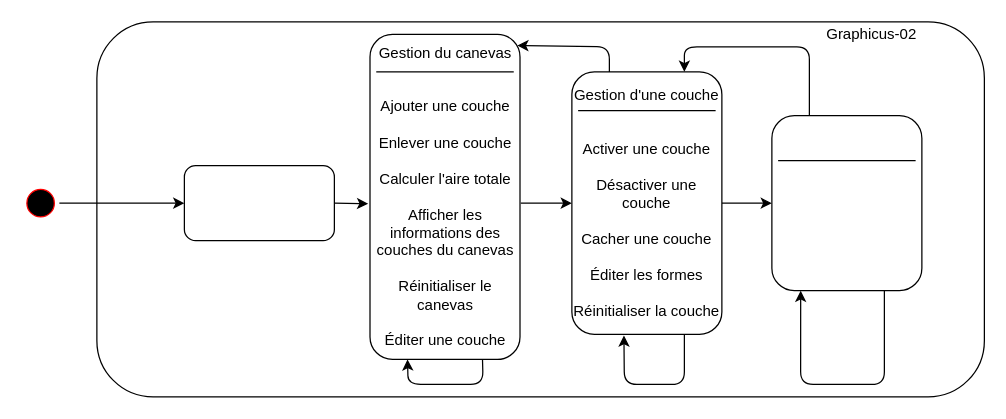
Image size: 1006x419. Some labels were removed from this diagram. Each missing label, with the centre of its shape:
Création d'un canevas: pixel 258 202
Gestion des formes Ajouter une forme Enlever une forme Translater une forme: pixel 846 202
